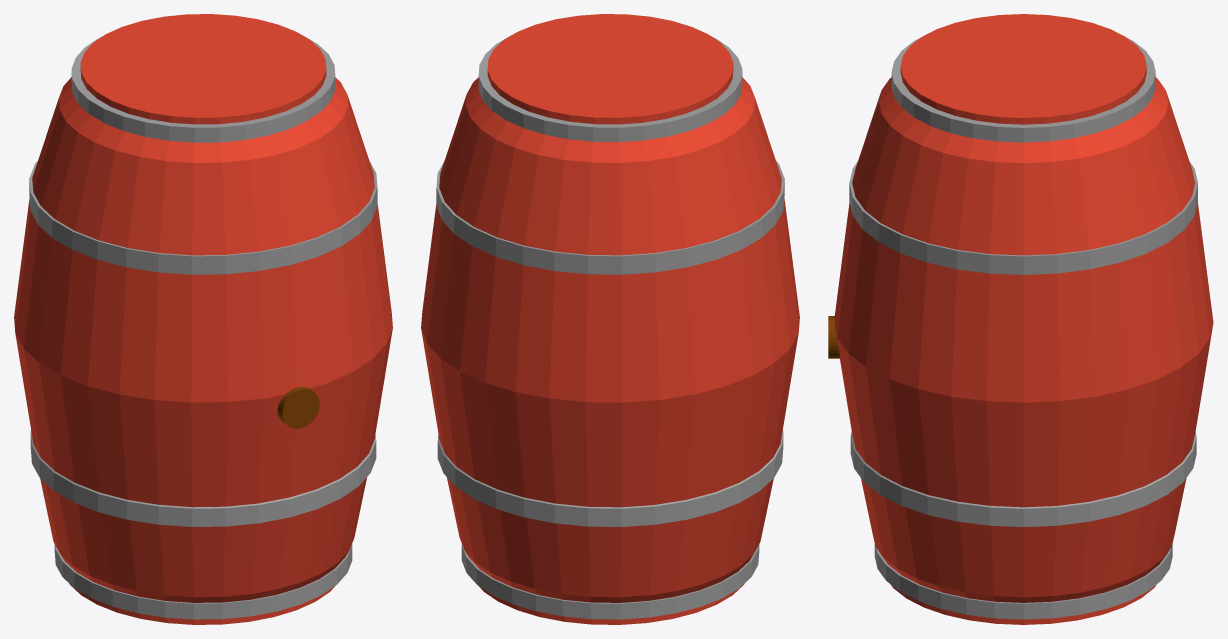
The model's file is Modelo Bomba 1.fbx.
3 views of the same model, side by side, from view 1: azimuth 30°, elevation 25°; view 2: azimuth 150°, elevation 25°; view 3: azimuth 270°, elevation 25° (orthographic).
Parts seen in each view (by area): view 1: Bomba Unida; view 2: Bomba Unida; view 3: Bomba Unida.
Part boxes in pixels (bbox=[...]): Bomba Unida: bbox=[14, 14, 392, 624]; Bomba Unida: bbox=[421, 14, 799, 624]; Bomba Unida: bbox=[828, 14, 1213, 624].
Size of the model in its own units: 173 by 251 by 175.
